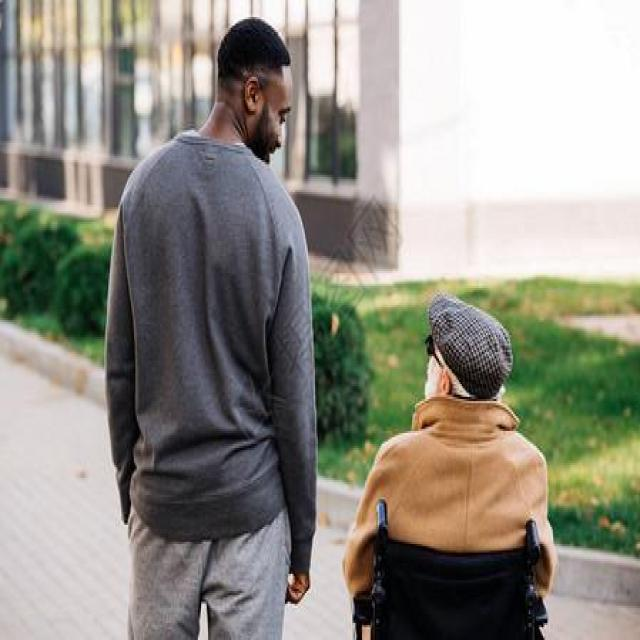wheelchairs: (335, 483, 554, 640)
